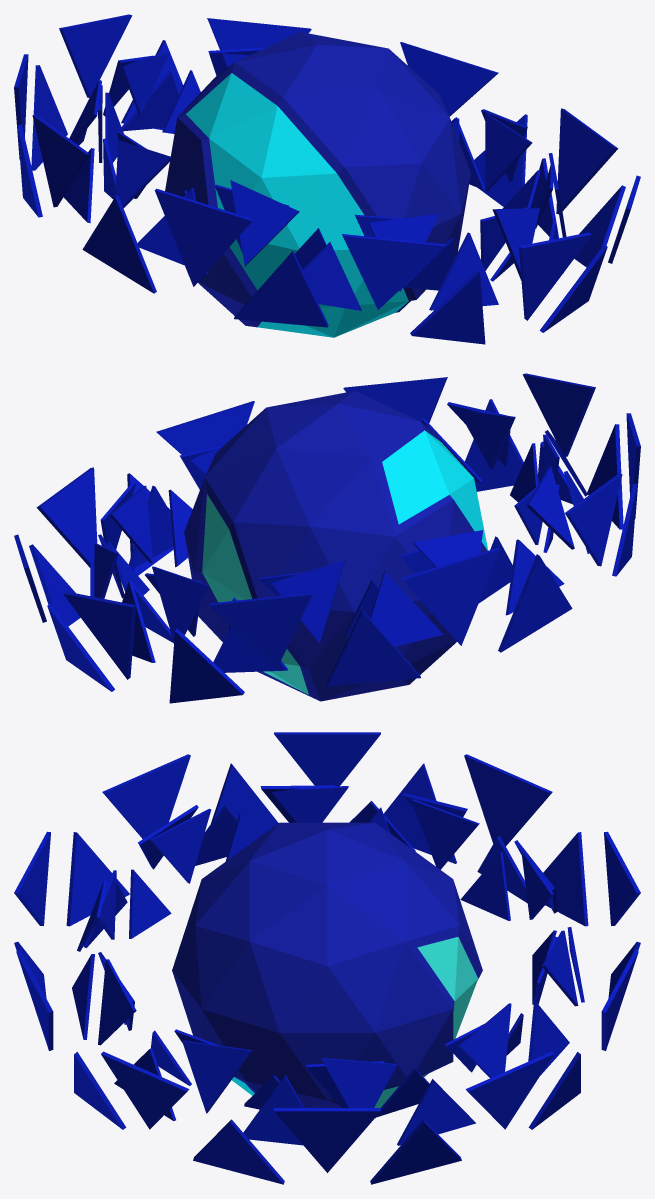
The picture shows the model from 3 angles, top to bottom: view 1: azimuth 30°, elevation 25°; view 2: azimuth 150°, elevation 25°; view 3: azimuth 270°, elevation 25°; orthographic projection.
Parts seen in each view (by area): view 1: GeoSphere001, Object001_02 - Default_0, Object002_02 - Default_0, Object003_02 - Default_0; view 2: GeoSphere001, Object001_02 - Default_0, Object002_02 - Default_0, Object003_02 - Default_0; view 3: GeoSphere001, Object001_02 - Default_0, Object002_02 - Default_0, Object003_02 - Default_0.
Part boxes in pixels (x1,y1,x2,y2): GeoSphere001: (165,32,470,337); Object001_02 - Default_0: (14,14,640,344); Object002_02 - Default_0: (63,47,566,310); Object003_02 - Default_0: (98,52,553,290); GeoSphere001: (184,391,488,701); Object001_02 - Default_0: (14,373,640,703); Object002_02 - Default_0: (90,402,589,672); Object003_02 - Default_0: (98,410,559,643); GeoSphere001: (172,822,482,1118); Object001_02 - Default_0: (14,732,640,1184); Object002_02 - Default_0: (72,785,584,1145); Object003_02 - Default_0: (98,786,557,1117).
Size of the model in its own units: 31649 by 16024 by 32309.
